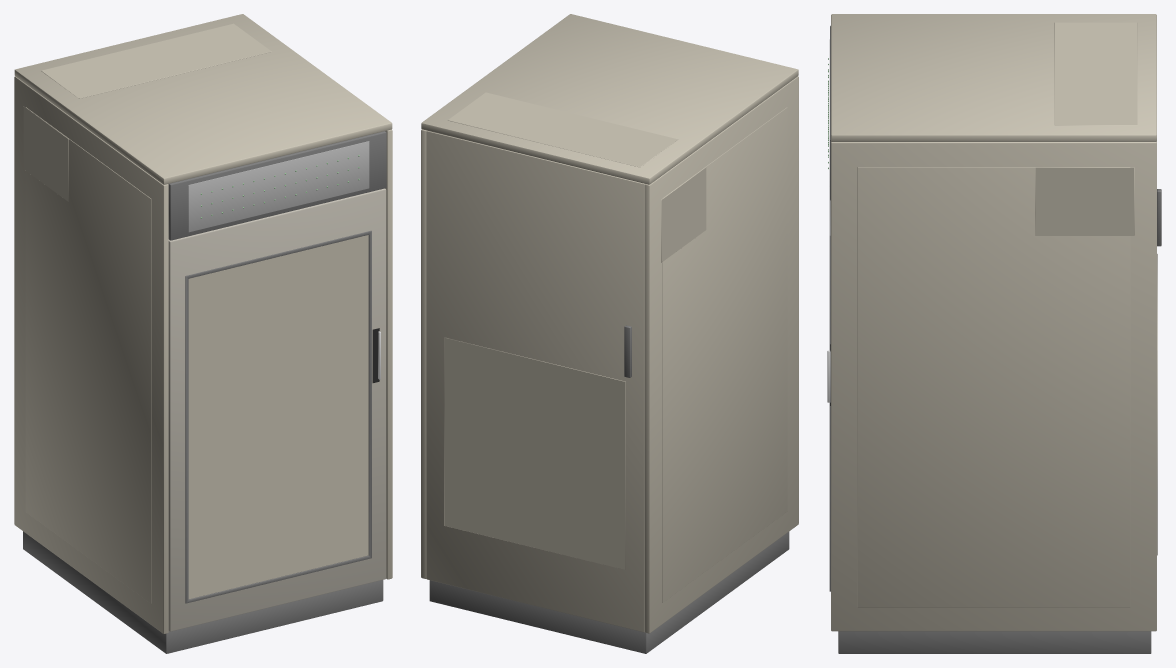
The model's file is Kit_SystemCabinet_Comms.fbx.
The picture shows the model from 3 angles, left to right: view 1: azimuth 30°, elevation 25°; view 2: azimuth 150°, elevation 25°; view 3: azimuth 270°, elevation 25°; orthographic projection. The views are drawn at different scales.
Parts seen in each view (by area): view 1: Kit_SystemCabinet_Comms_LOD0; view 2: Kit_SystemCabinet_Comms_LOD0; view 3: Kit_SystemCabinet_Comms_LOD0.
Boxes of the visible parts, bbox=[...] form: Kit_SystemCabinet_Comms_LOD0: bbox=[14, 14, 392, 653]; Kit_SystemCabinet_Comms_LOD0: bbox=[421, 14, 798, 653]; Kit_SystemCabinet_Comms_LOD0: bbox=[827, 14, 1161, 653].
Size of what is drawn, in the model's own units: 0.7671 by 1.52 by 0.881.
